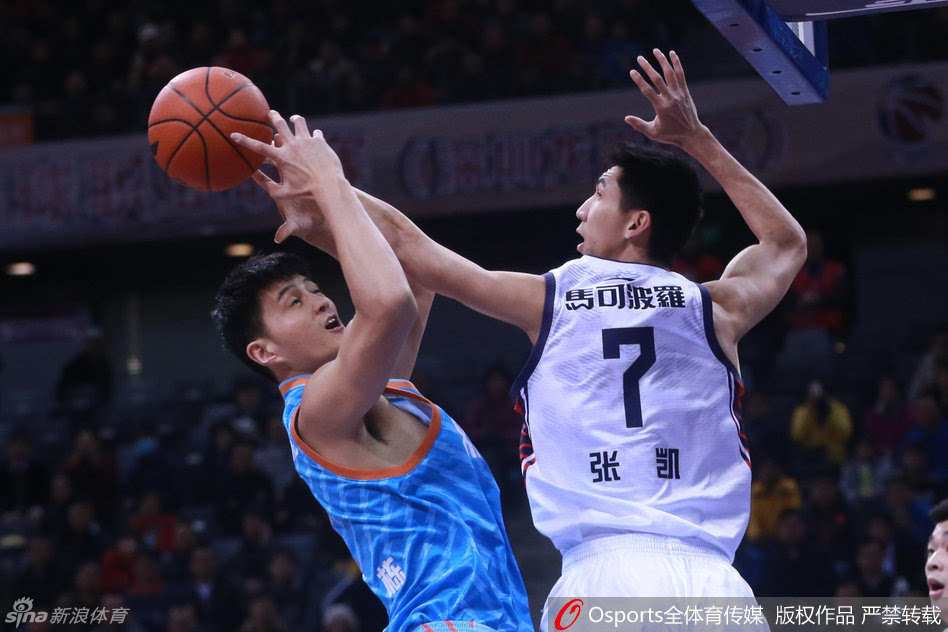ball: (149, 63, 273, 192)
